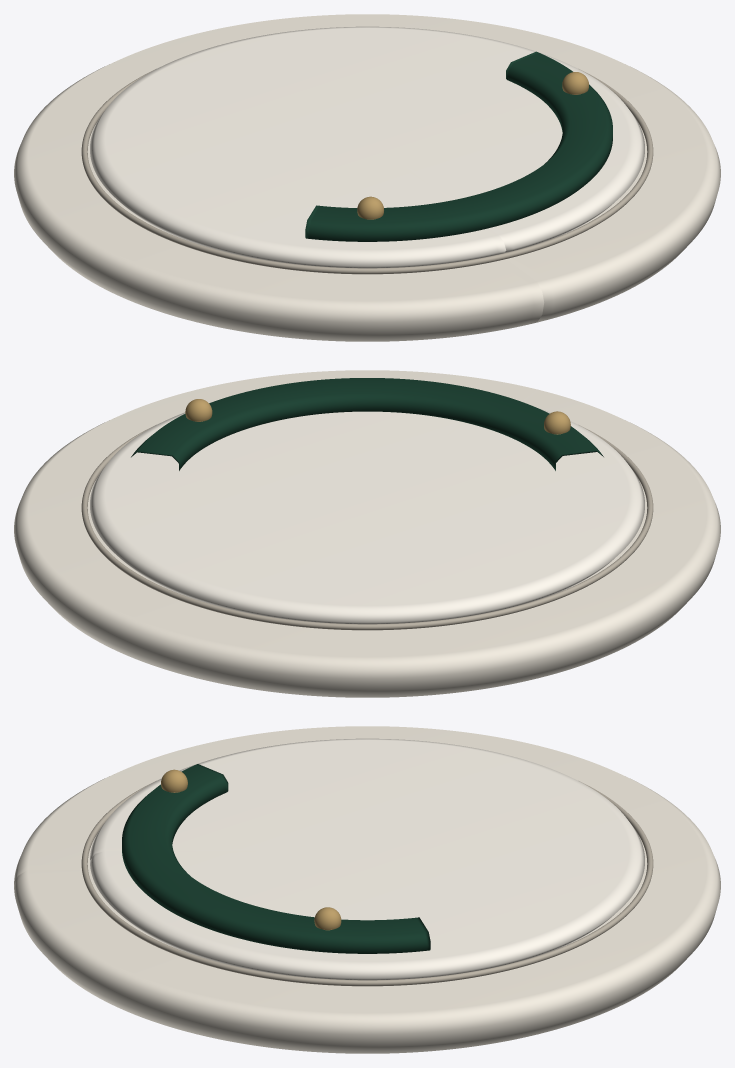
Rendered from reflow-fidelity-slice.glb.
3 views of the same model, one above another, from view 1: azimuth 30°, elevation 25°; view 2: azimuth 150°, elevation 25°; view 3: azimuth 270°, elevation 25° (orthographic).
Visible parts, largest first — view 1: RecessedPlate, CeramicBody, ForestInsert, RecessSeam; view 2: RecessedPlate, CeramicBody, ForestInsert, RecessSeam, BrassPinA, BrassPinB; view 3: RecessedPlate, CeramicBody, ForestInsert, RecessSeam, BrassPinA.
Boxes of the visible parts, x1=… form: RecessedPlate: x1=90, y1=26, x2=644, y2=268; CeramicBody: x1=14, y1=14, x2=720, y2=341; ForestInsert: x1=305, y1=51, x2=612, y2=241; RecessSeam: x1=81, y1=69, x2=653, y2=274; RecessedPlate: x1=90, y1=408, x2=644, y2=624; CeramicBody: x1=14, y1=370, x2=720, y2=697; ForestInsert: x1=131, y1=378, x2=603, y2=470; RecessSeam: x1=81, y1=425, x2=653, y2=630; BrassPinA: x1=185, y1=399, x2=212, y2=421; BrassPinB: x1=544, y1=411, x2=570, y2=434; RecessedPlate: x1=90, y1=738, x2=644, y2=980; CeramicBody: x1=14, y1=726, x2=720, y2=1053; ForestInsert: x1=122, y1=764, x2=430, y2=953; RecessSeam: x1=81, y1=781, x2=653, y2=986; BrassPinA: x1=314, y1=907, x2=341, y2=930.
Bounding box in the file's own units: 5.5 × 0.845 × 5.5.
